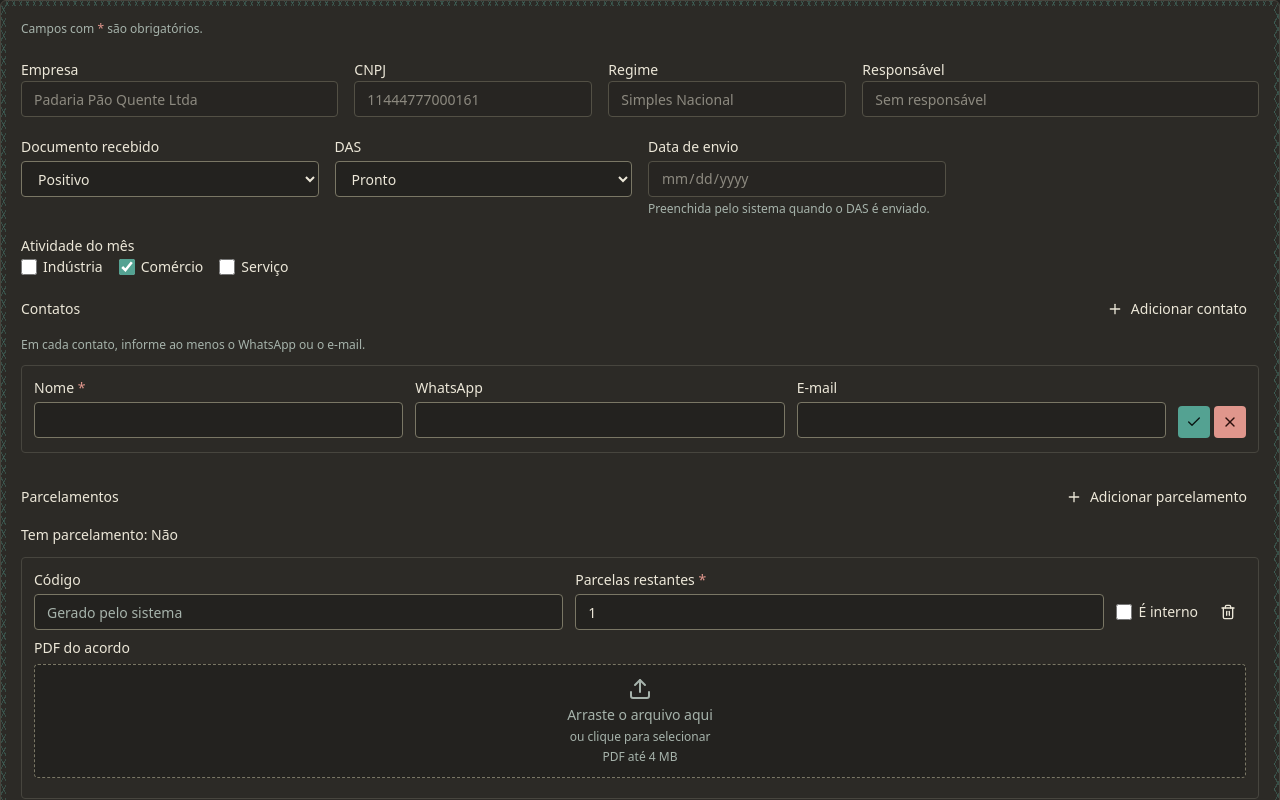
Test: EditarCadastroOperacionalContainer › linha de Contato preenchida pela metade acusa o erro na linha certa
The width and height of the screenshot is (1280, 800).
Type "Maria" into the field labelled "Nome *".
click(219, 420); type("Maria")  # box [34,402,403,438]
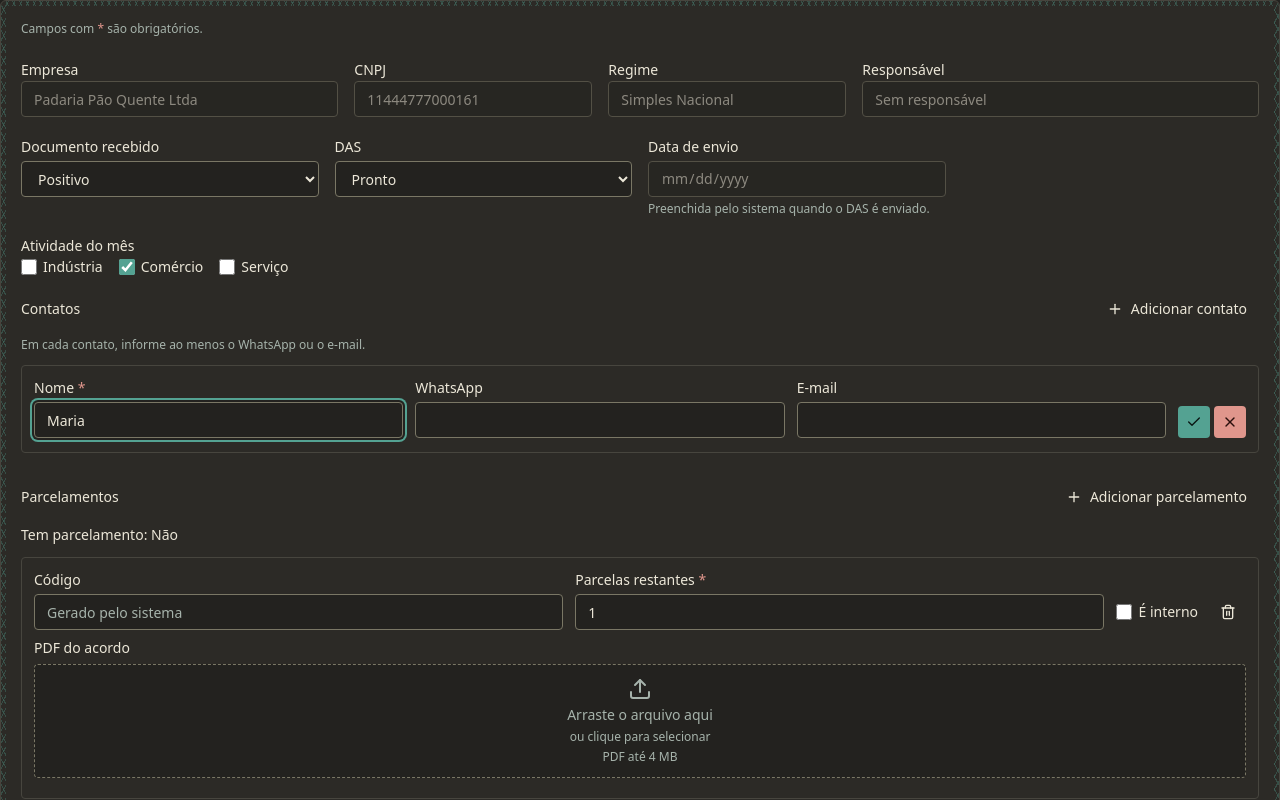
Click the button named "Salvar contato 1".
click(1194, 422)  # box [1178,406,1210,438]
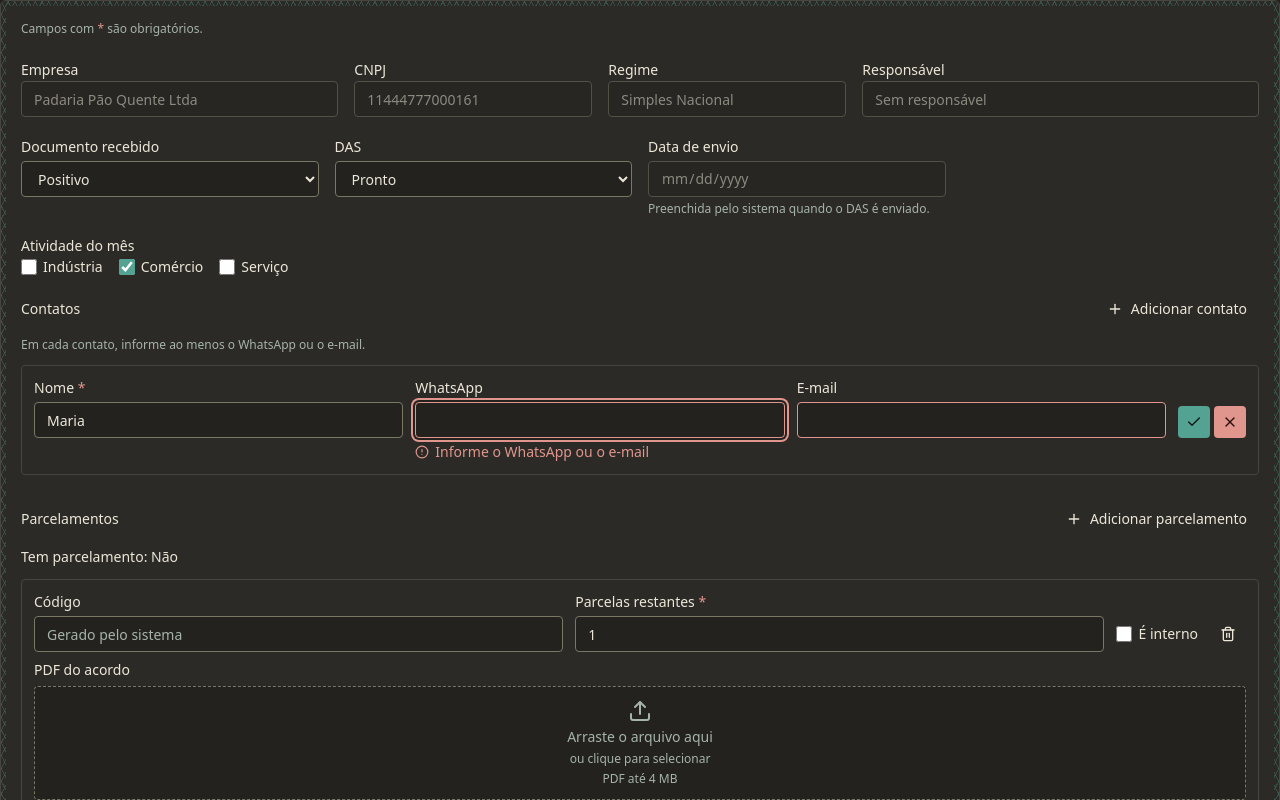
Now the text "Informe o WhatsApp ou o e-mail" is shown, box [415,442,649,461]
